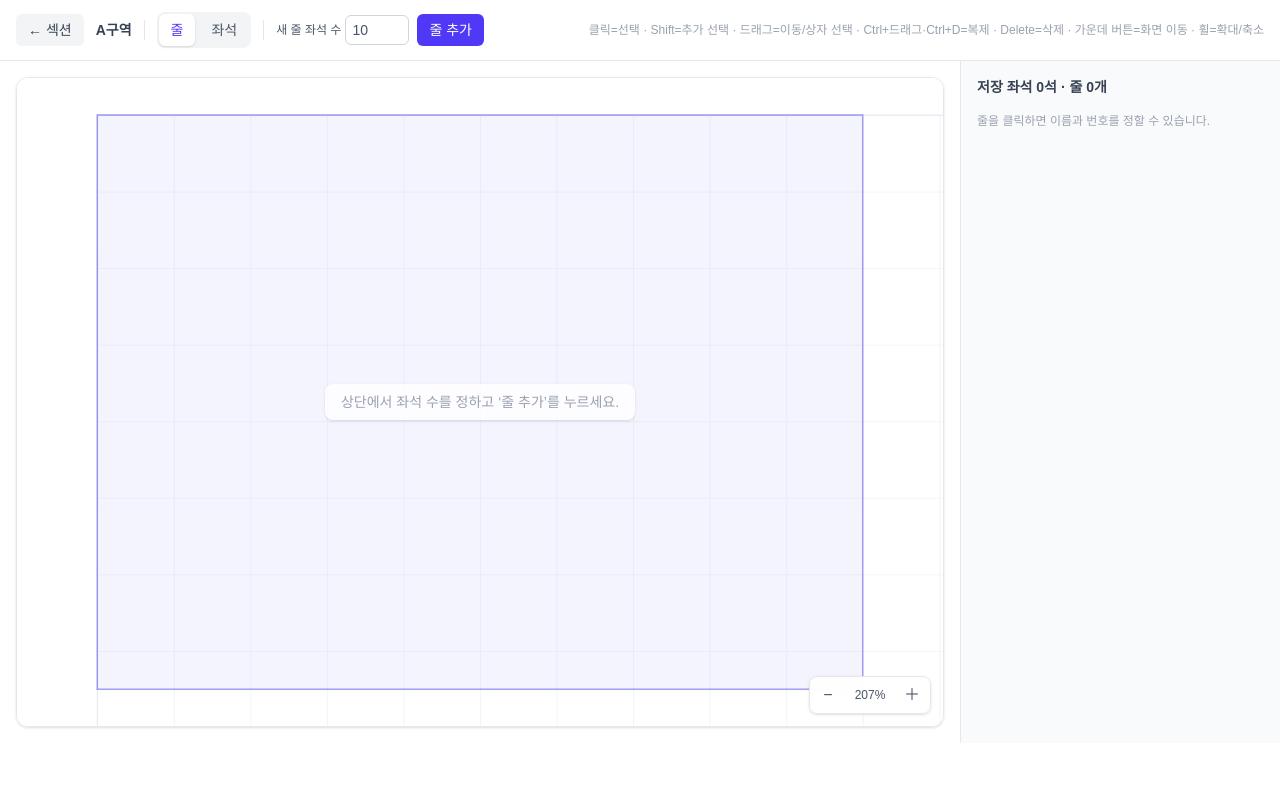
Test: input keys: 입력칸의 Backspace/Delete 는 줄을 지우지 않는다
Click the button "줄 추가": (451, 30) [417,14,484,46]
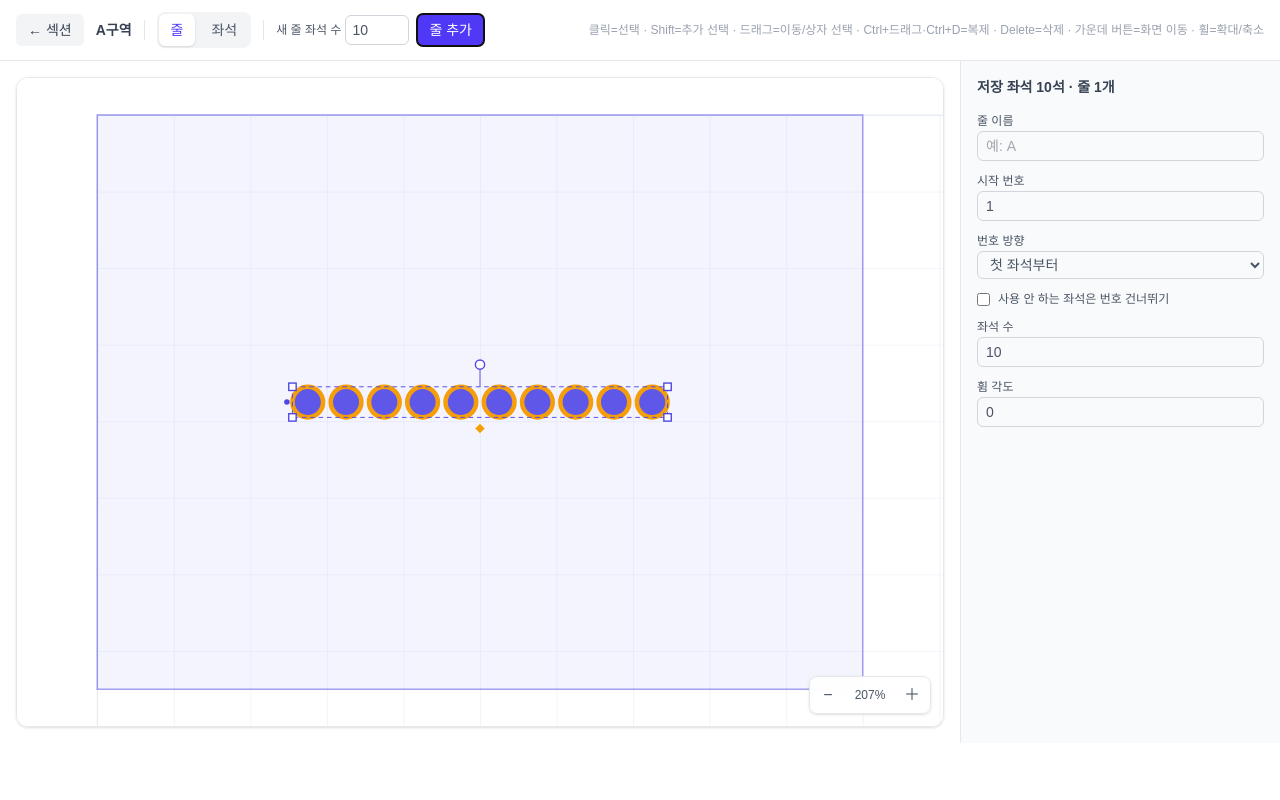
In the field labelled "줄 이름": (1120, 146) [977,131,1264,161], type "AB"
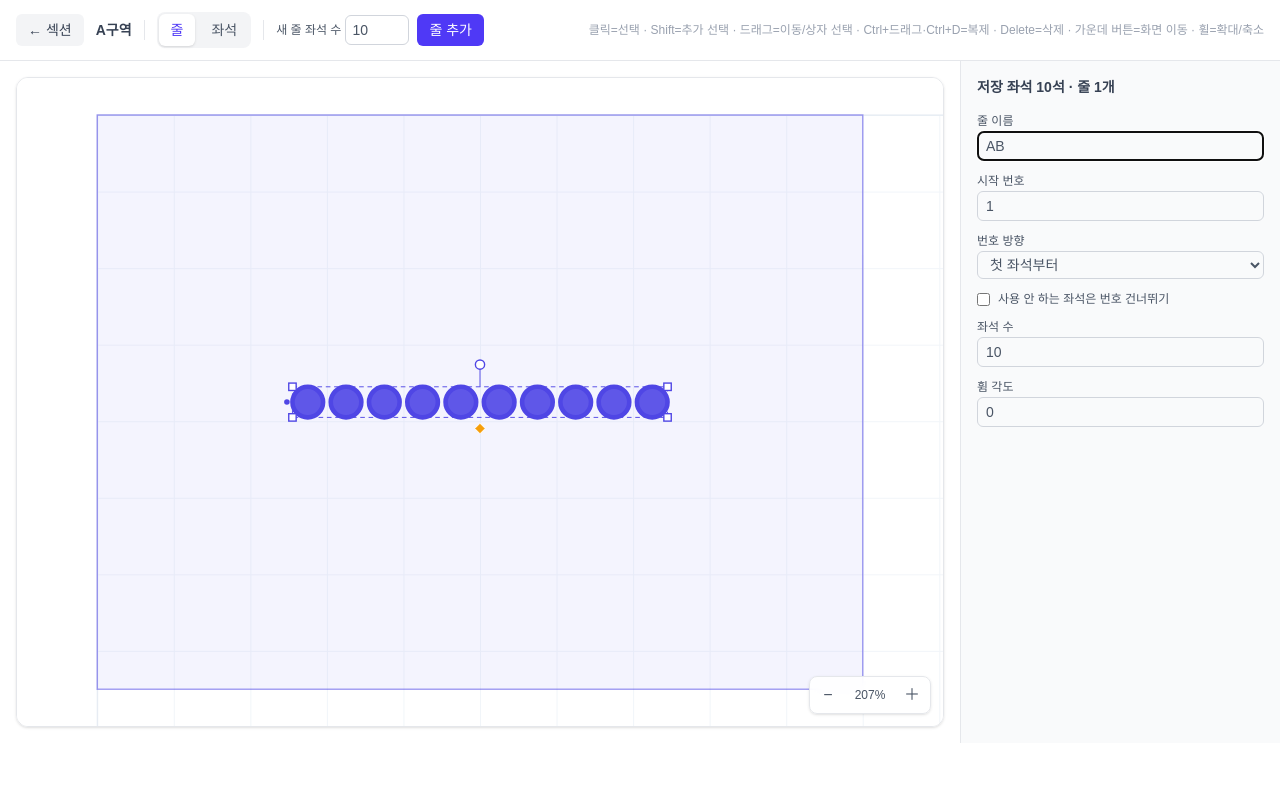
Press Backspace Delete
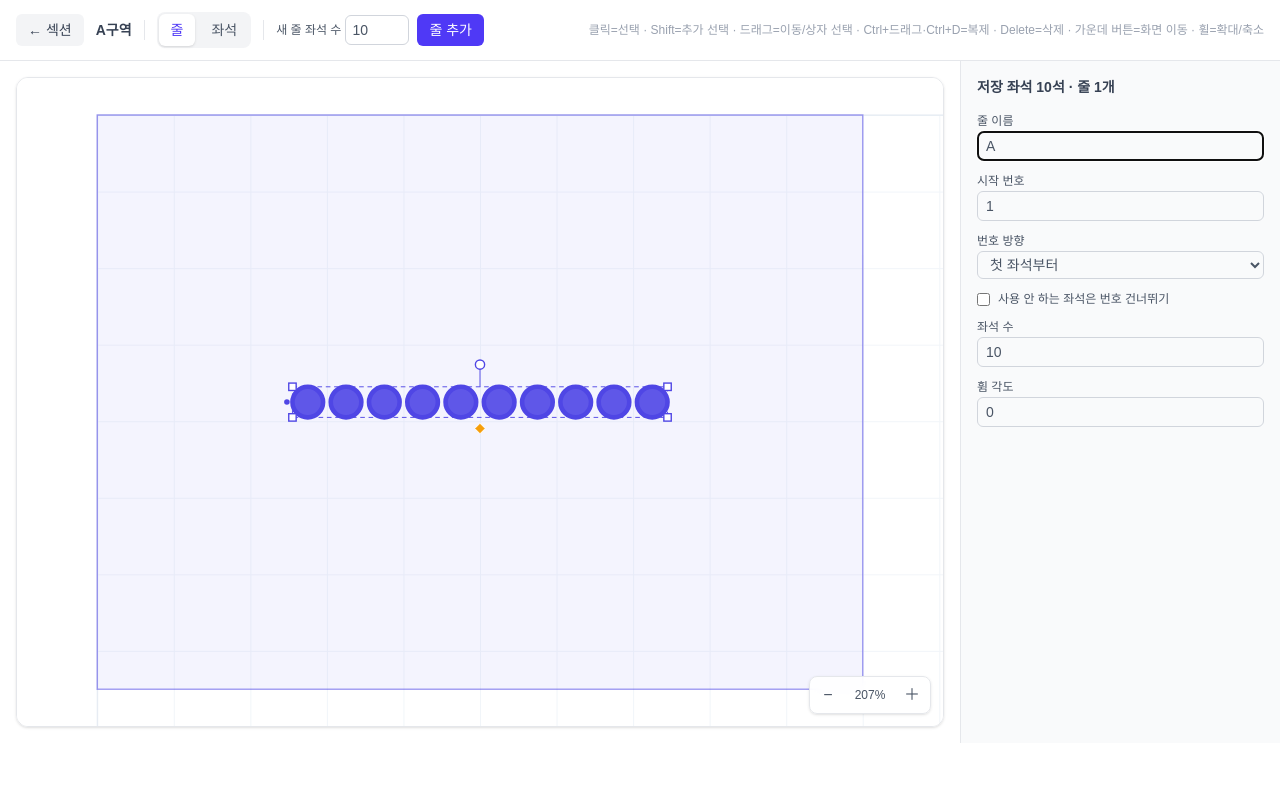
expect the field labelled "줄 이름" holds "A": met, box [977,131,1264,161]
